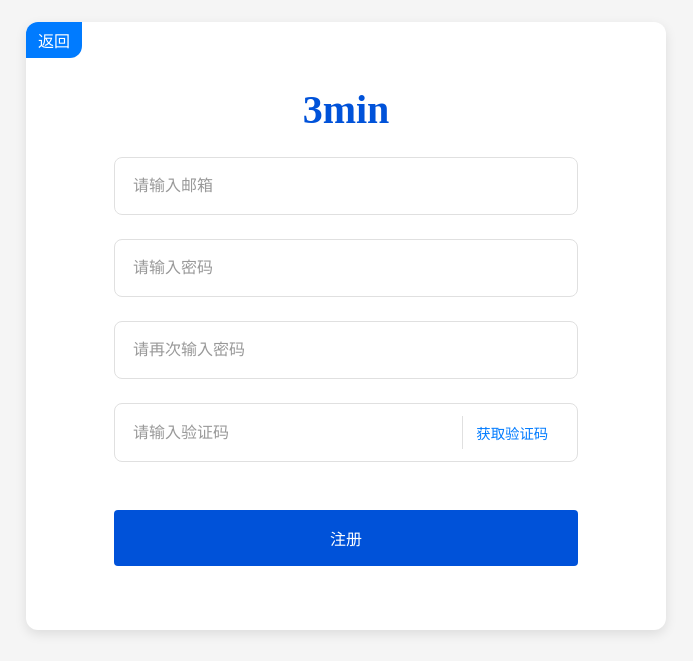
Register Page › 校验必填项提示
This screenshot has width=693, height=661.
Click the button "注册" at (346, 538), box [114, 510, 578, 566]
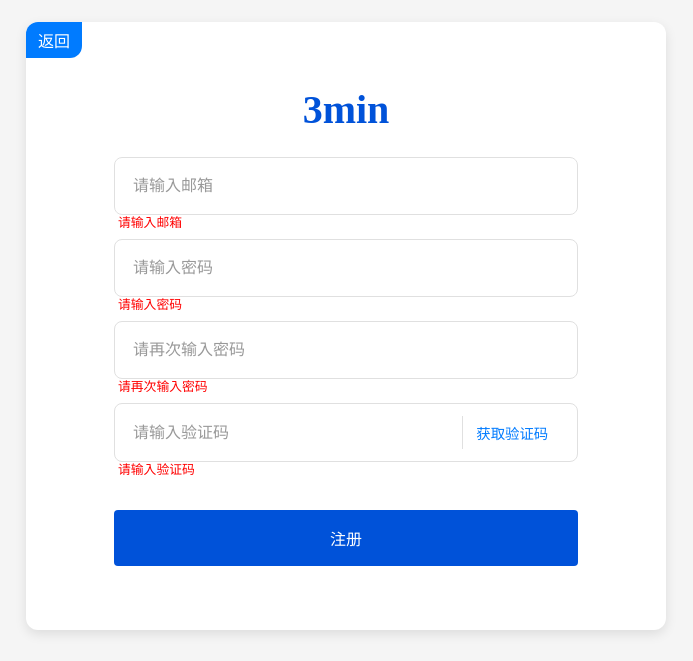
Expected: the text "请输入邮箱" is shown, [118, 216, 182, 230]
Expected: the text "请输入密码" is shown, [118, 298, 182, 312]
Expected: the text "请再次输入密码" is shown, [118, 380, 208, 394]
